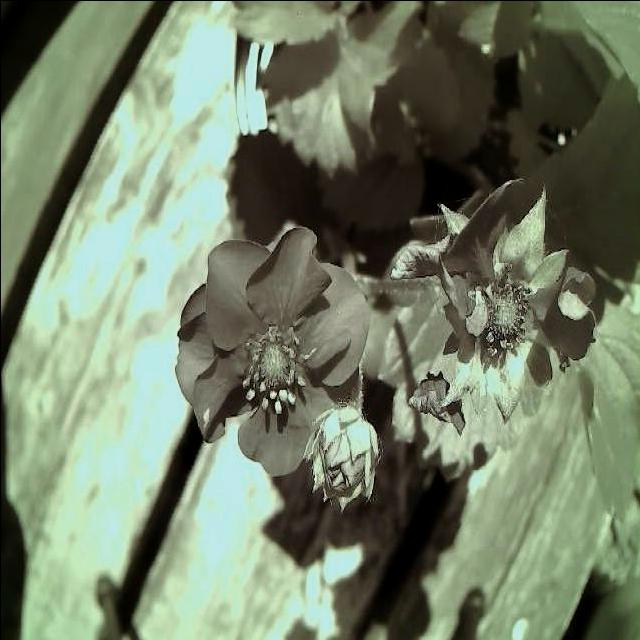flower: (157, 222, 376, 489)
